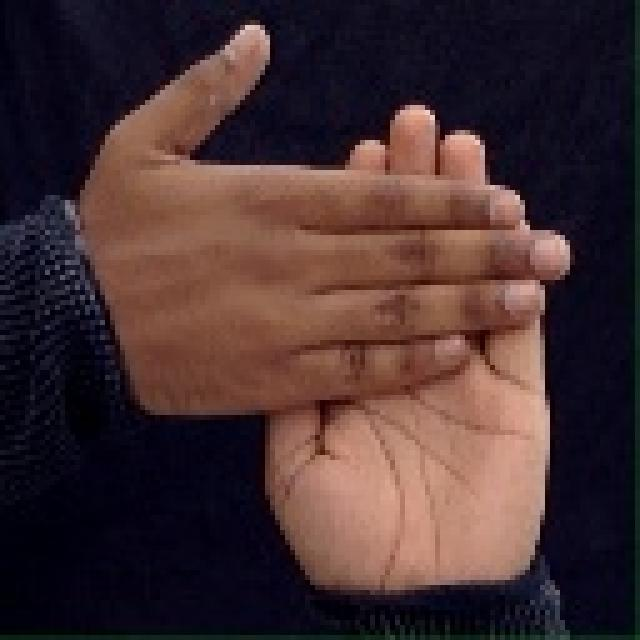Alphabet-H: (68, 16, 578, 614)
